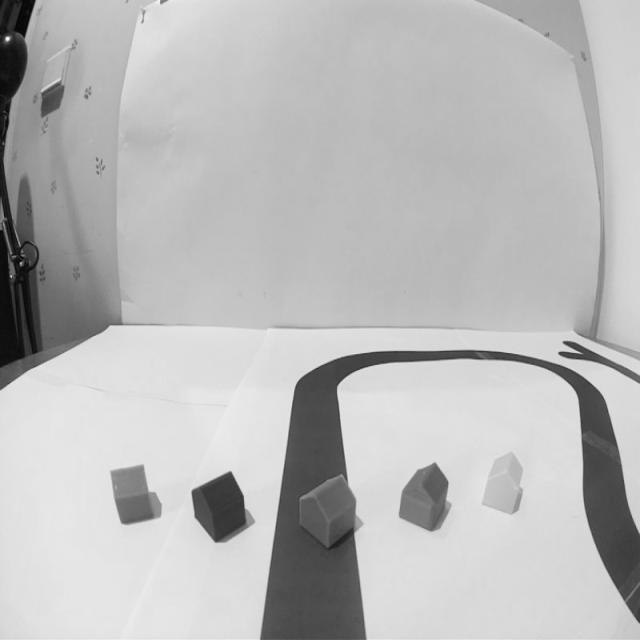home: (292, 467, 361, 553), (188, 467, 248, 546), (392, 458, 452, 535), (481, 450, 527, 520), (105, 464, 158, 524)
lineStraight: (248, 493, 377, 640)
